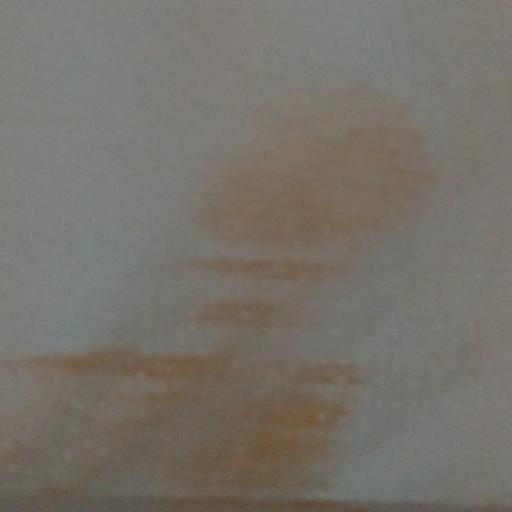stain: (0, 78, 454, 512)
